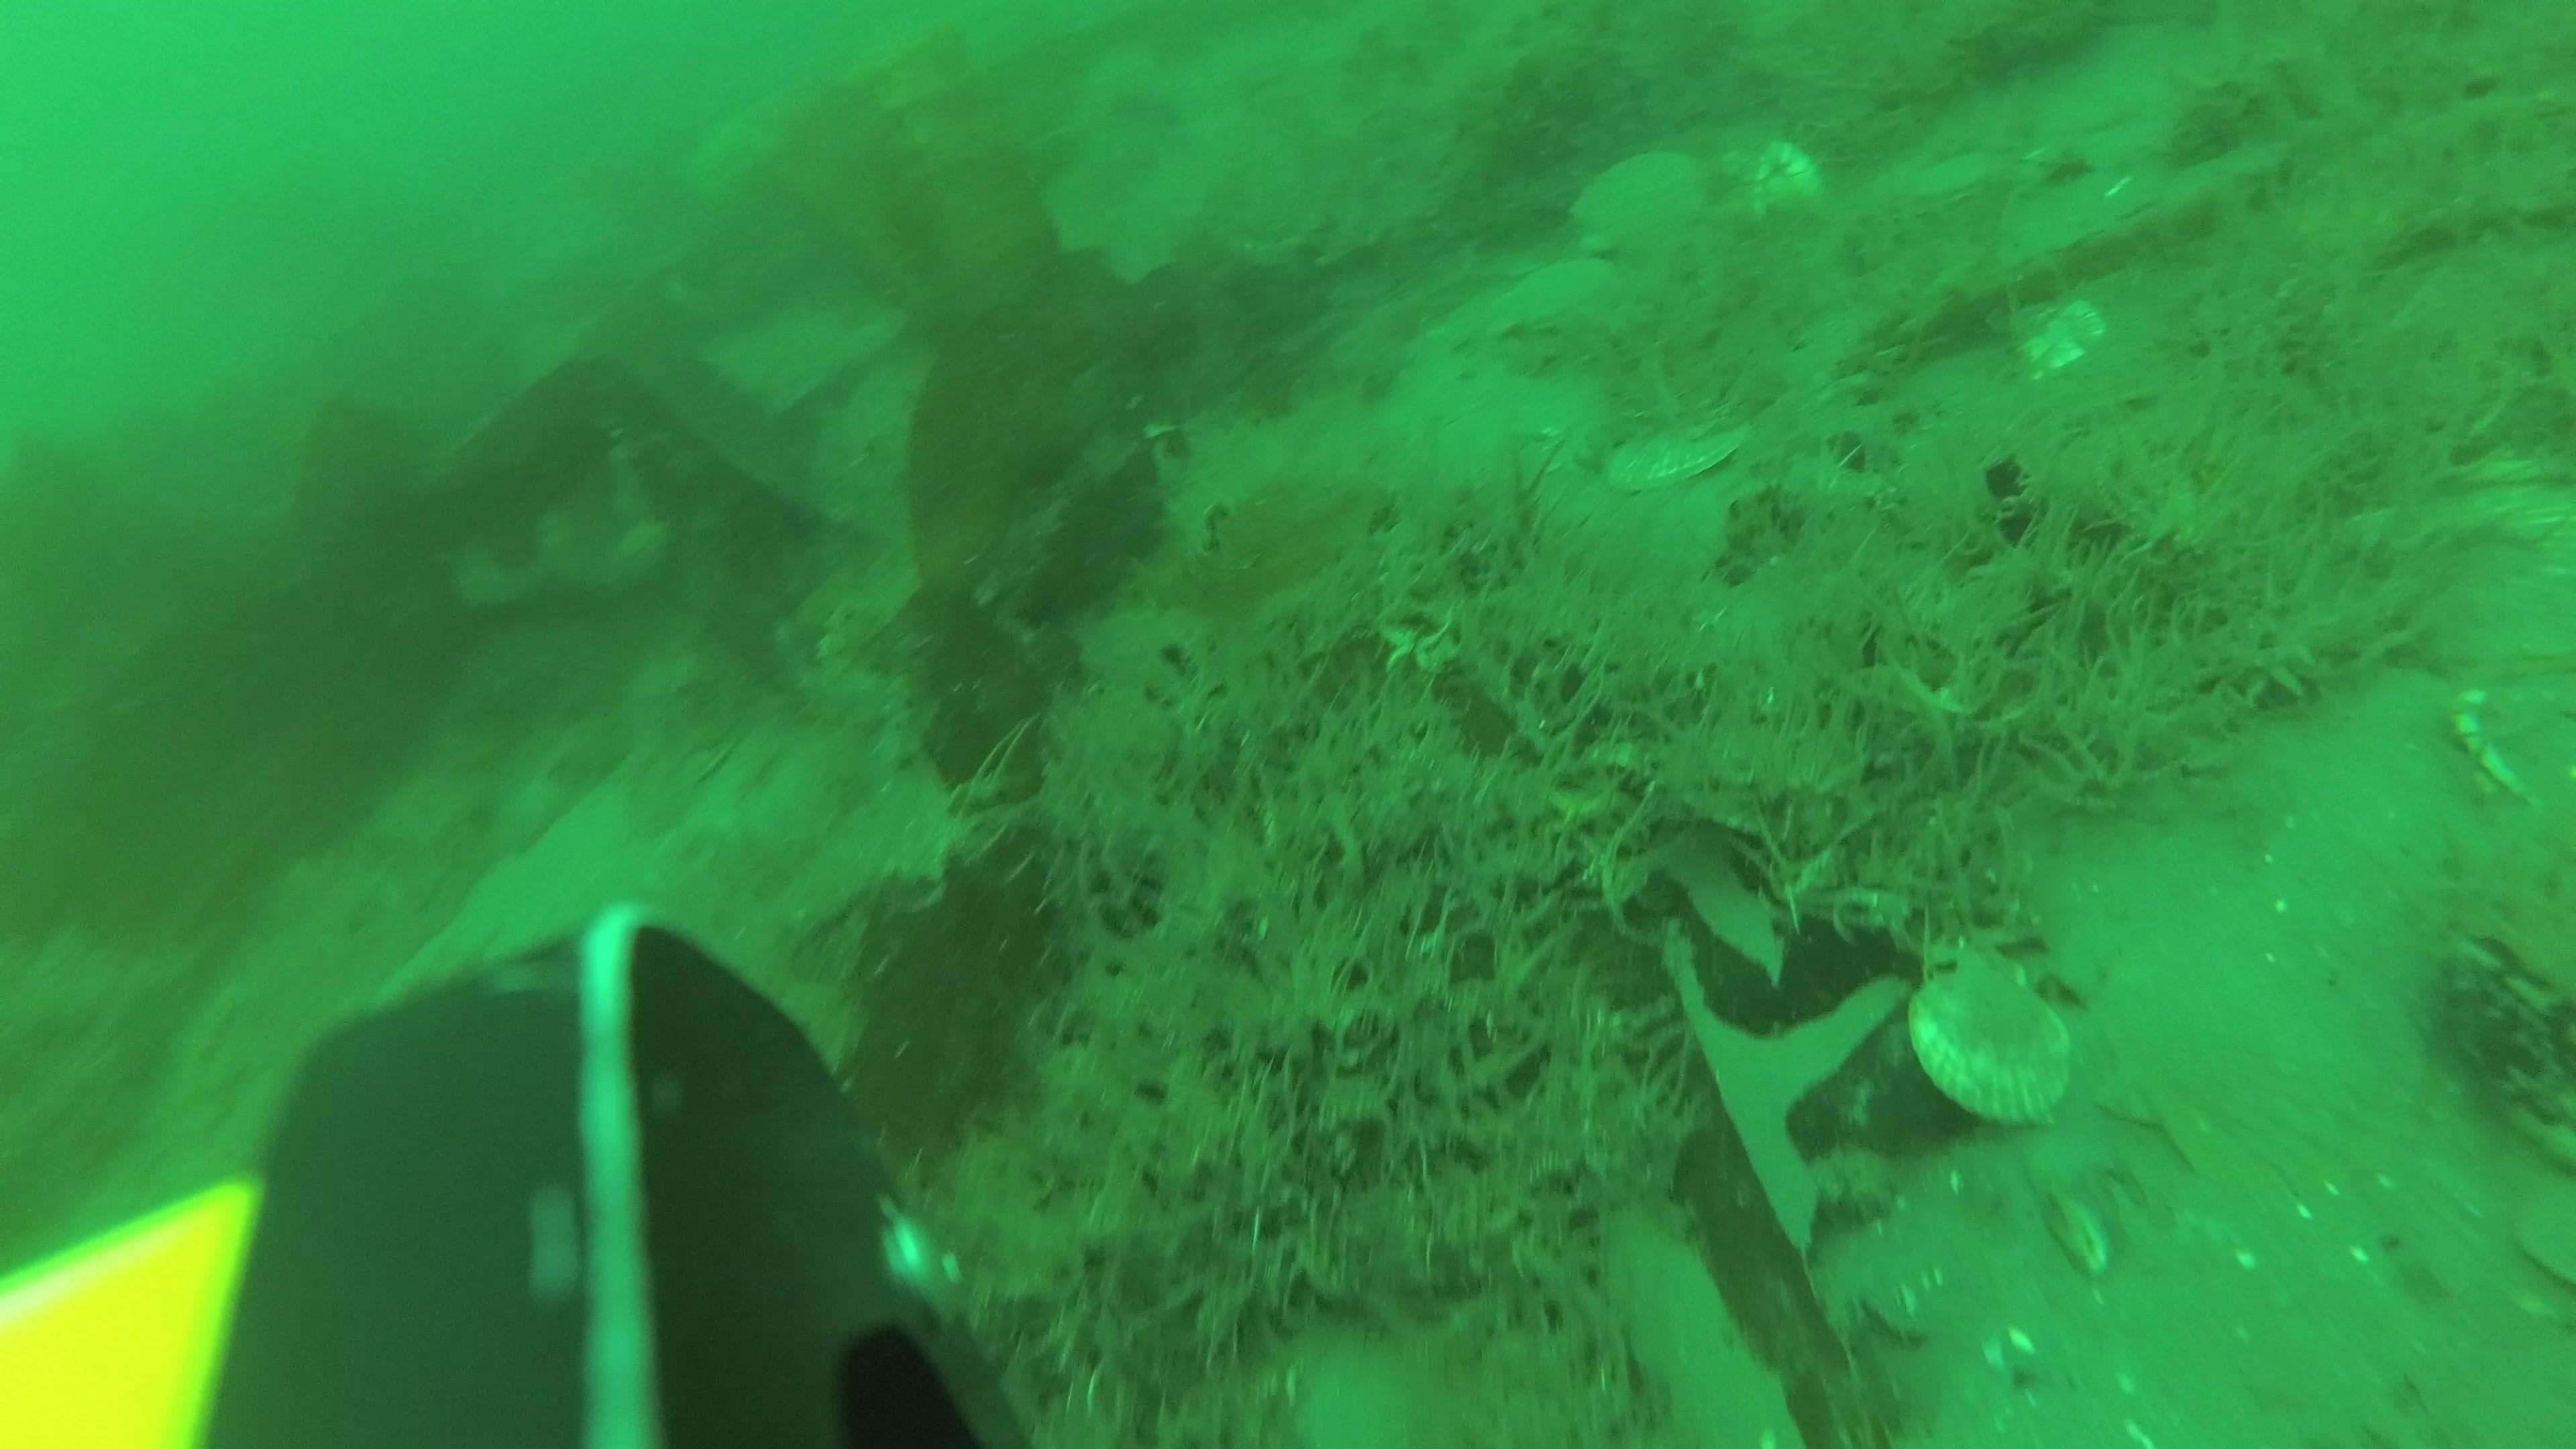scallop: (1905, 954, 2077, 1129), (1569, 149, 1711, 262), (1490, 255, 1629, 345), (1606, 410, 1748, 492), (1721, 131, 1826, 225), (2013, 294, 2109, 380), (2512, 1166, 2576, 1292)
